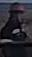helmet: (8, 2, 26, 14)
vest: (0, 24, 32, 57)
